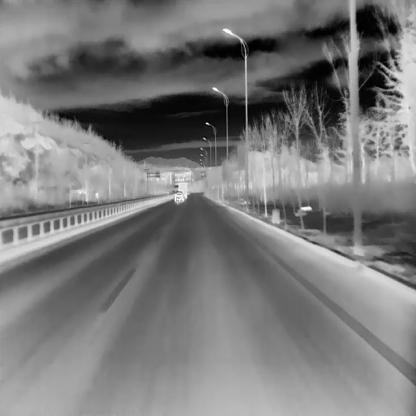car: (178, 182, 188, 198), (174, 190, 184, 202)
